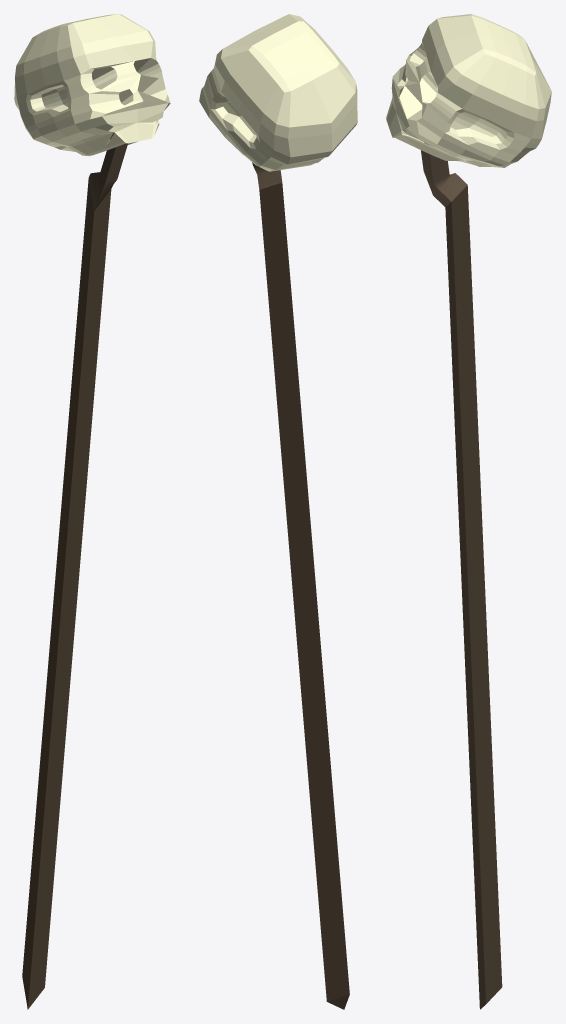
The model's file is SkullStick.fbx.
3 views of the same model, side by side, from view 1: azimuth 30°, elevation 25°; view 2: azimuth 210°, elevation 25°; view 3: azimuth 270°, elevation 25° (orthographic). The views are drawn at different scales.
Parts seen in each view (by area): view 1: SkullStick; view 2: SkullStick; view 3: SkullStick.
Part boxes in pixels (bbox=[...]): SkullStick: bbox=[14, 14, 170, 1009]; SkullStick: bbox=[199, 14, 357, 1009]; SkullStick: bbox=[386, 14, 551, 1009].
Bounding box in the file's own units: 16.66 × 136 × 20.07.
